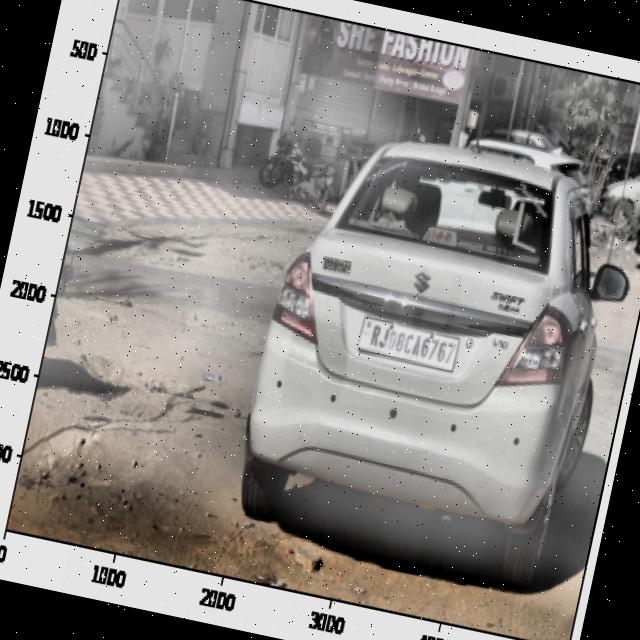license_plate: (360, 316, 462, 371)
